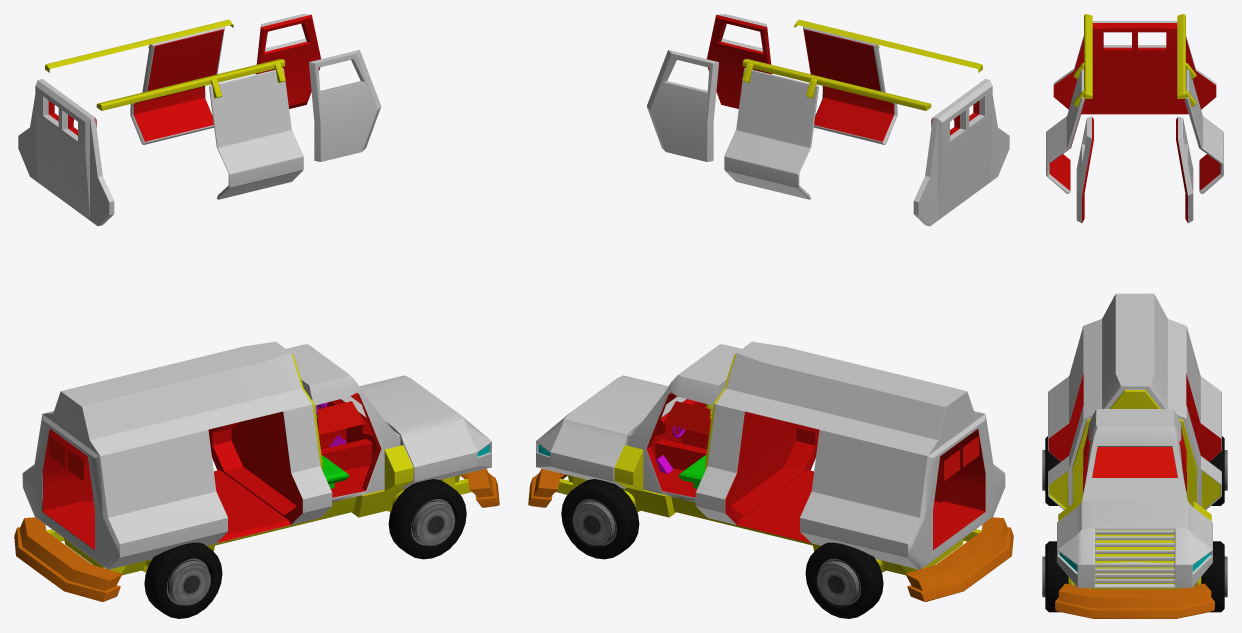
File: SM_CivilianUtilityTruck2_Exploded.fbx
The picture shows the model from 3 angles, left to right: view 1: azimuth 30°, elevation 25°; view 2: azimuth 150°, elevation 25°; view 3: azimuth 270°, elevation 25°; orthographic projection. The views are drawn at different scales.
Parts seen in each view (by area): view 1: MainBodyMesh, SideDoorMesh, WheelMesh, CabinDoorMesh, MainBodyMesh.001, CabinMesh, GlassMeshes; view 2: MainBodyMesh, SideDoorMesh, WheelMesh, CabinDoorMesh, MainBodyMesh.001, CabinMesh, GlassMeshes; view 3: MainBodyMesh, MainBodyMesh.001, CabinMesh, SideDoorMesh, WheelMesh, FrontGlass, CabinDoorMesh.
Part boxes in pixels (x1,y1,x2,y2): MainBodyMesh: (14, 341, 499, 601); SideDoorMesh: (45, 19, 303, 199); WheelMesh: (144, 479, 466, 618); CabinDoorMesh: (255, 14, 381, 161); MainBodyMesh.001: (18, 79, 114, 226); CabinMesh: (286, 344, 400, 502); GlassMeshes: (48, 401, 364, 480); MainBodyMesh: (528, 341, 1013, 601); SideDoorMesh: (724, 19, 982, 199); WheelMesh: (561, 479, 883, 618); CabinDoorMesh: (646, 14, 772, 161); MainBodyMesh.001: (913, 79, 1009, 226); CabinMesh: (627, 344, 741, 502); GlassMeshes: (663, 401, 979, 480); MainBodyMesh: (1048, 293, 1221, 618); MainBodyMesh.001: (1053, 21, 1216, 114); CabinMesh: (1082, 409, 1187, 501); SideDoorMesh: (1046, 14, 1223, 193); WheelMesh: (1042, 436, 1227, 612); FrontGlass: (1092, 447, 1177, 477); CabinDoorMesh: (1076, 116, 1193, 223).
Size of the model in its own units: 519 by 215 by 588.
